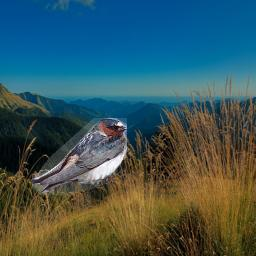Swallow: (32, 118, 127, 195)
